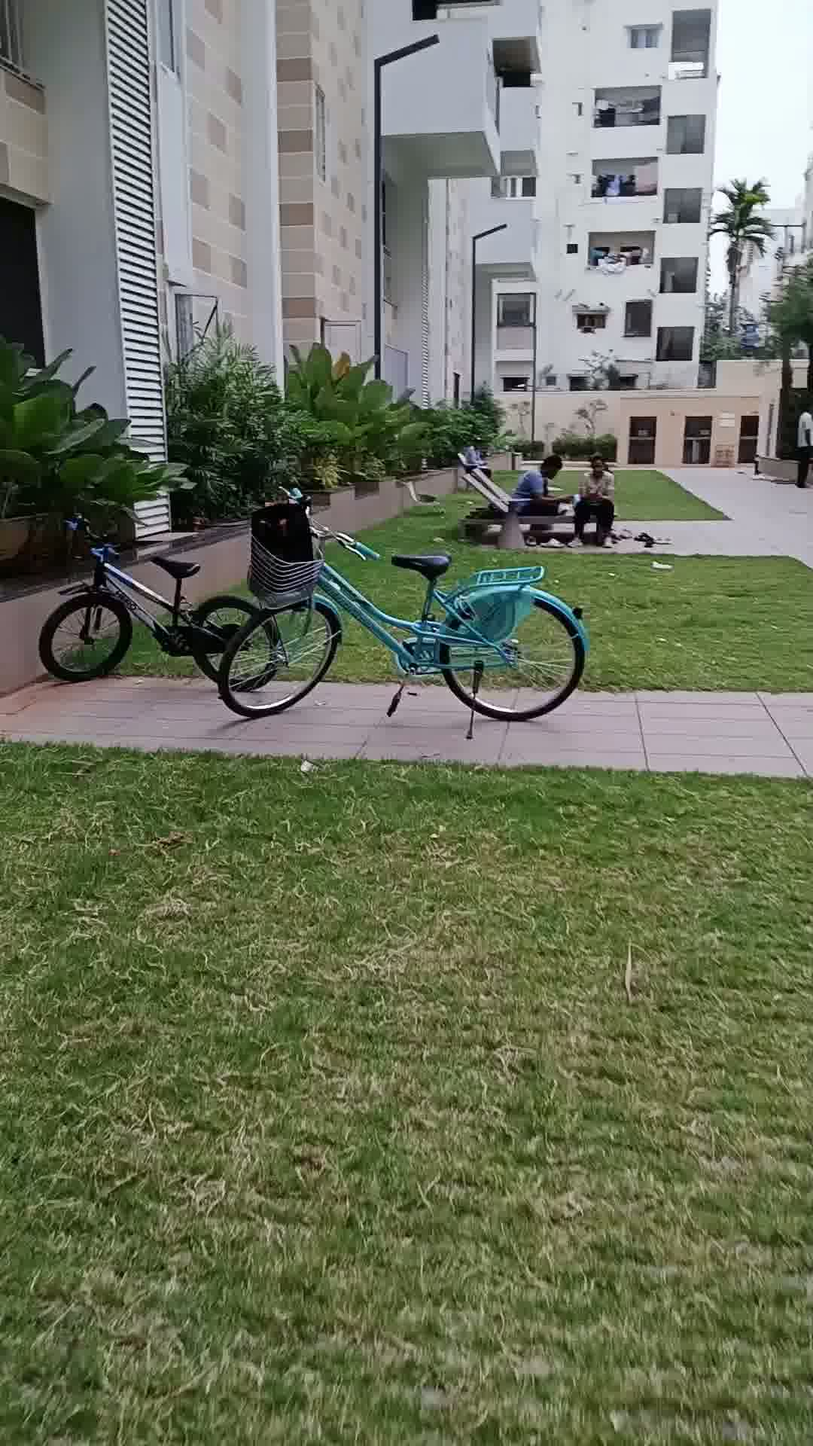bicycle: (225, 478, 592, 774), (46, 490, 265, 723)
person: (506, 441, 572, 547), (575, 441, 620, 564)
tree: (714, 168, 777, 362)
